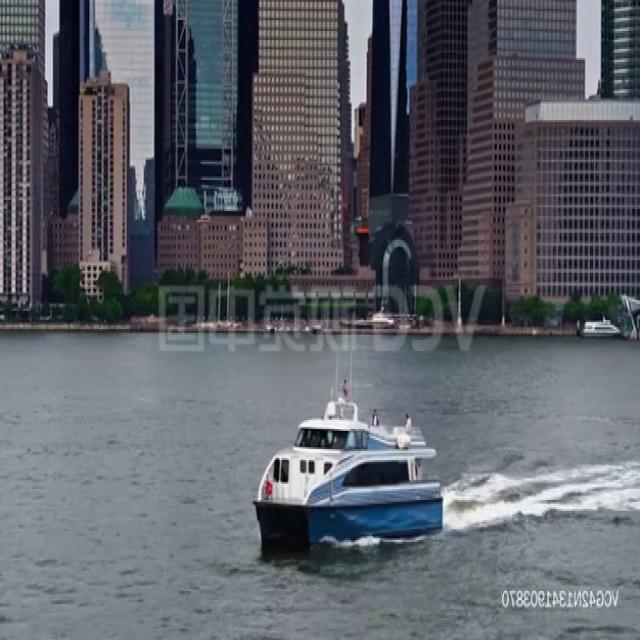houseboat: (254, 384, 444, 546), (584, 316, 621, 340)
